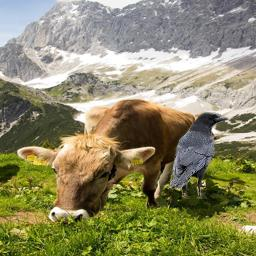Crow: (168, 112, 229, 199)
